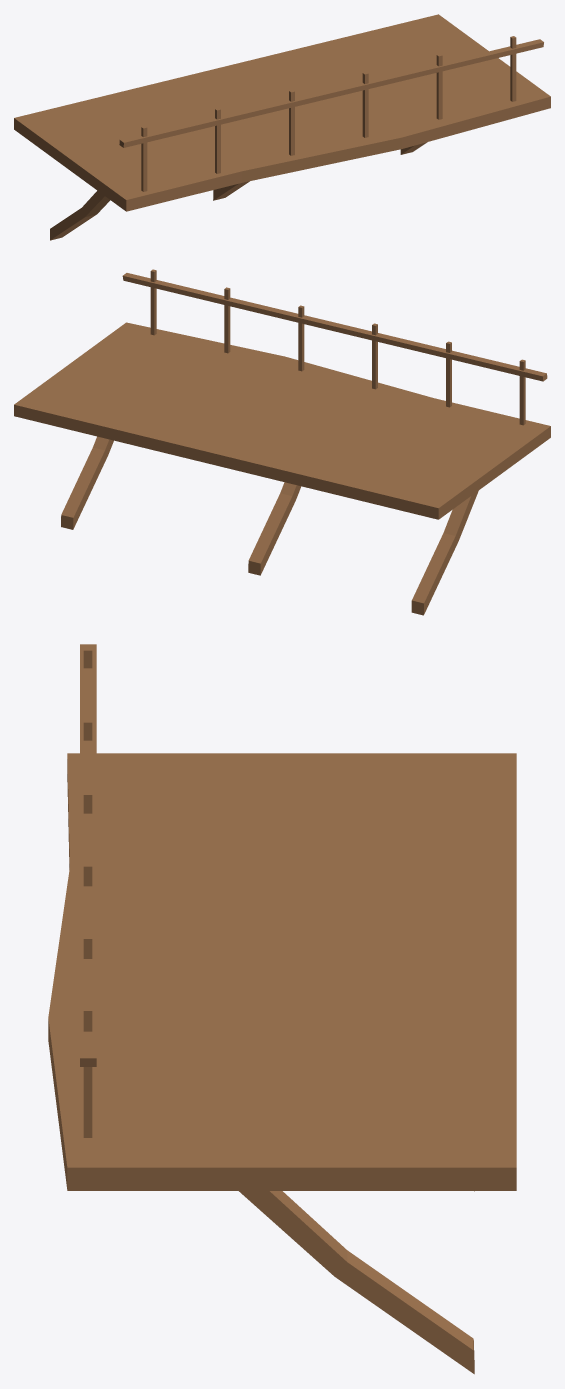
Rendered from Plattform_1.fbx.
3 renders of one model, top to bottom at view 1: azimuth 30°, elevation 25°; view 2: azimuth 150°, elevation 25°; view 3: azimuth 270°, elevation 25°, orthographic. The views are drawn at different scales.
Parts seen in each view (by area): view 1: Platform_mesh; view 2: Platform_mesh; view 3: Platform_mesh.
Boxes of the visible parts, left/top/right/bottom form: Platform_mesh: left=14, top=14, right=550, bottom=240; Platform_mesh: left=14, top=269, right=550, bottom=615; Platform_mesh: left=48, top=644, right=516, bottom=1374.
Size of the model in its own units: 437 by 181 by 208.
